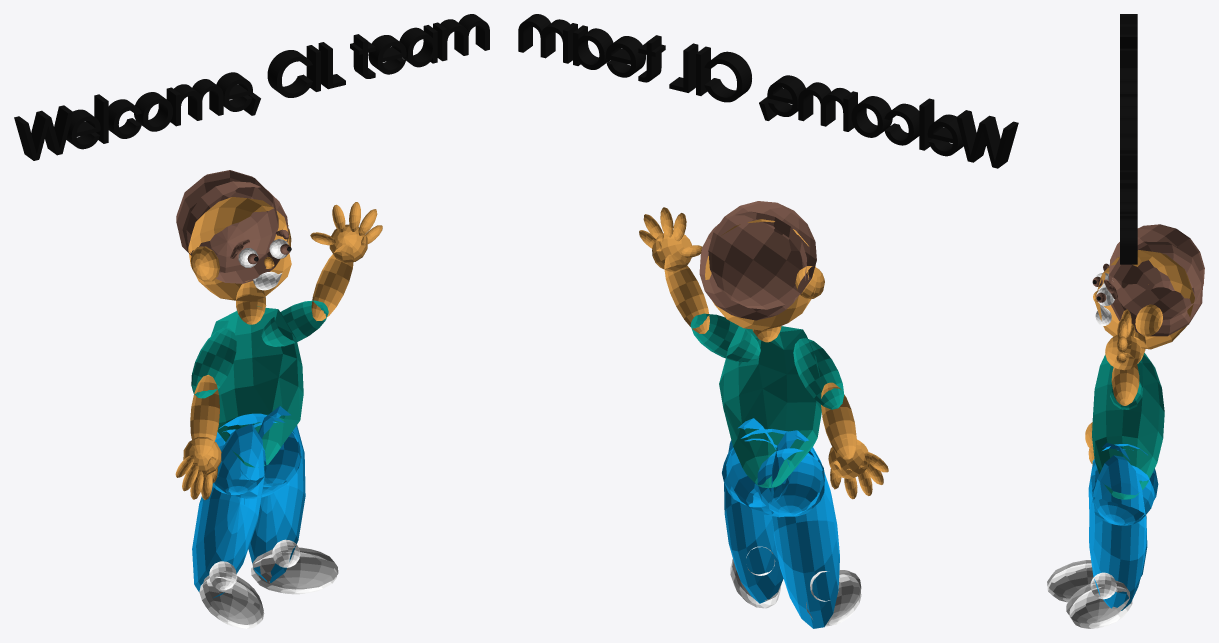
The model's file is welcome.glb.
3 views of the same model, side by side, from view 1: azimuth 30°, elevation 25°; view 2: azimuth 150°, elevation 25°; view 3: azimuth 270°, elevation 25° (orthographic). The views are drawn at different scales.
Visible parts, largest first — view 1: Buffer Layer4, Buffer Layer, Buffer Layer3, Buffer Layer1, Buffer Layer0, Buffer Layer5, 3D Text - W, 3D Text - m0, 3D Text - m, 3D Text - C, 3D Text - a, 3D Text - e1 (+6 smaller); view 2: Buffer Layer4, Buffer Layer3, Buffer Layer1, Buffer Layer, 3D Text - W, 3D Text - m, 3D Text - m0, 3D Text - C, 3D Text - a, 3D Text - e1, 3D Text - o, 3D Text - e0 (+6 smaller); view 3: Buffer Layer4, Buffer Layer1, Buffer Layer3, Buffer Layer, Buffer Layer0, Buffer Layer5, 3D Text - m0, 3D Text - W, 3D Text - m, 3D Text - l, 3D Text - e0, 3D Text - t (+3 smaller).
Boxes of the visible parts, box(x1,y1,x2,y2) form: Buffer Layer4: box(192, 406, 305, 597); Buffer Layer: box(175, 197, 382, 499); Buffer Layer3: box(191, 300, 328, 467); Buffer Layer1: box(176, 170, 290, 283); Buffer Layer0: box(199, 239, 336, 628); Buffer Layer5: box(202, 547, 338, 624); 3D Text - W: box(14, 105, 73, 160); 3D Text - m0: box(433, 14, 489, 61); 3D Text - m: box(166, 79, 223, 126); 3D Text - C: box(267, 50, 312, 97); 3D Text - a: box(399, 25, 437, 67); 3D Text - e1: box(368, 35, 406, 74); Buffer Layer4: box(722, 418, 839, 628); Buffer Layer3: box(690, 313, 844, 488); Buffer Layer1: box(699, 201, 816, 320); Buffer Layer: box(639, 207, 888, 499); 3D Text - W: box(956, 110, 1018, 168); 3D Text - m: box(798, 82, 857, 131); 3D Text - m0: box(518, 14, 577, 63); 3D Text - C: box(704, 51, 751, 102); 3D Text - a: box(573, 25, 613, 69); 3D Text - e1: box(606, 36, 645, 77); 3D Text - o: box(851, 96, 892, 137); 3D Text - e0: box(767, 75, 805, 116); Buffer Layer4: box(1088, 442, 1158, 610); Buffer Layer1: box(1092, 224, 1204, 336); Buffer Layer3: box(1092, 353, 1164, 499); Buffer Layer: box(1085, 250, 1194, 464); Buffer Layer0: box(1047, 273, 1132, 628); Buffer Layer5: box(1047, 560, 1129, 623); 3D Text - m0: box(1120, 214, 1137, 264); 3D Text - W: box(1120, 14, 1137, 48); 3D Text - m: box(1120, 92, 1137, 118); 3D Text - l: box(1120, 48, 1137, 67); 3D Text - e0: box(1120, 118, 1137, 136); 3D Text - t: box(1120, 170, 1137, 188).
Size of the model in its own units: 0.8413 by 0.9212 by 0.2625.
